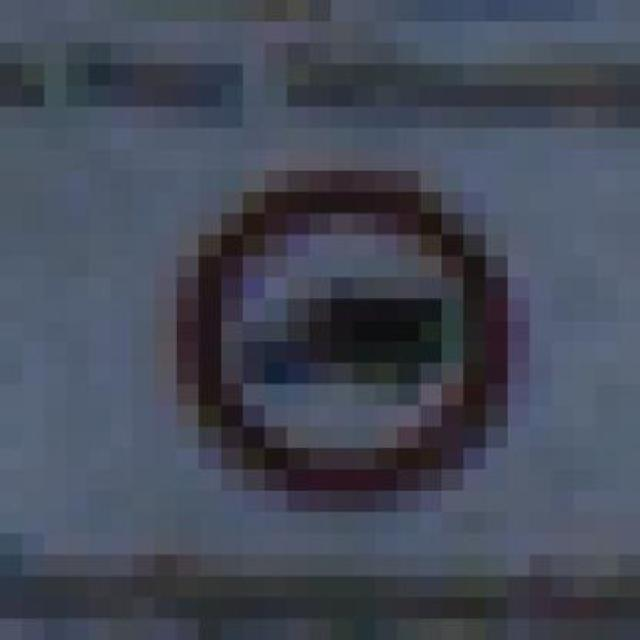Truck traffic is prohibited: (111, 171, 574, 512)
